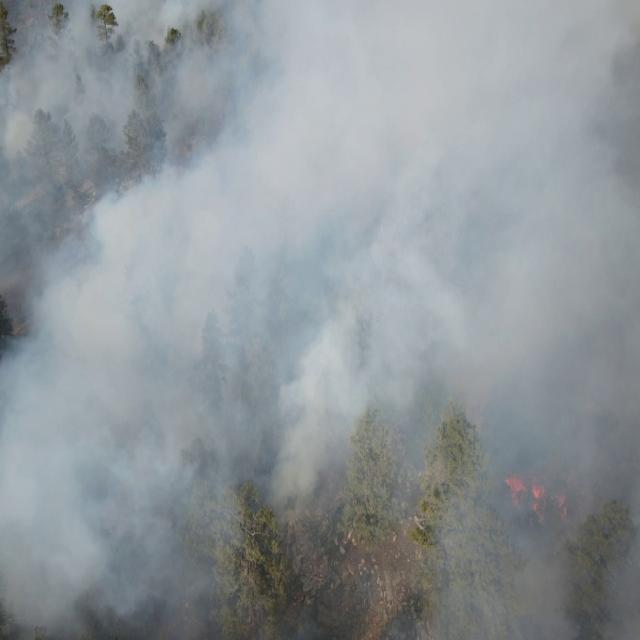fire: (502, 472, 586, 526)
smoke: (252, 0, 640, 526), (0, 1, 254, 640), (405, 527, 639, 640)
